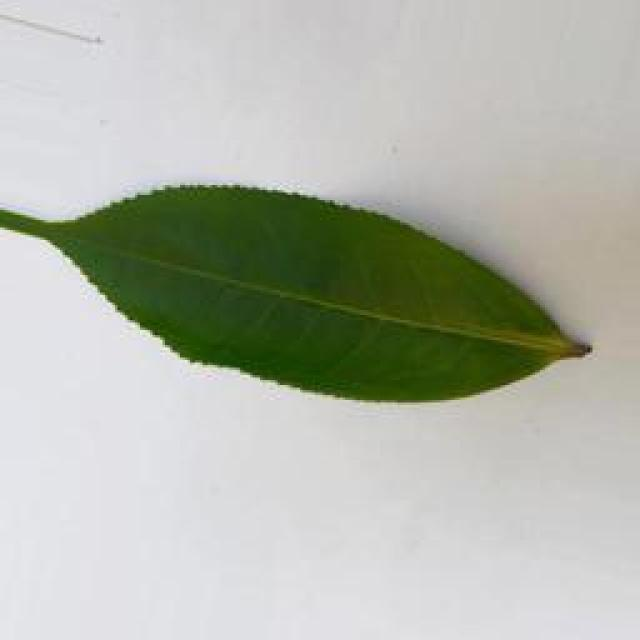Healthy: (0, 164, 584, 416)
